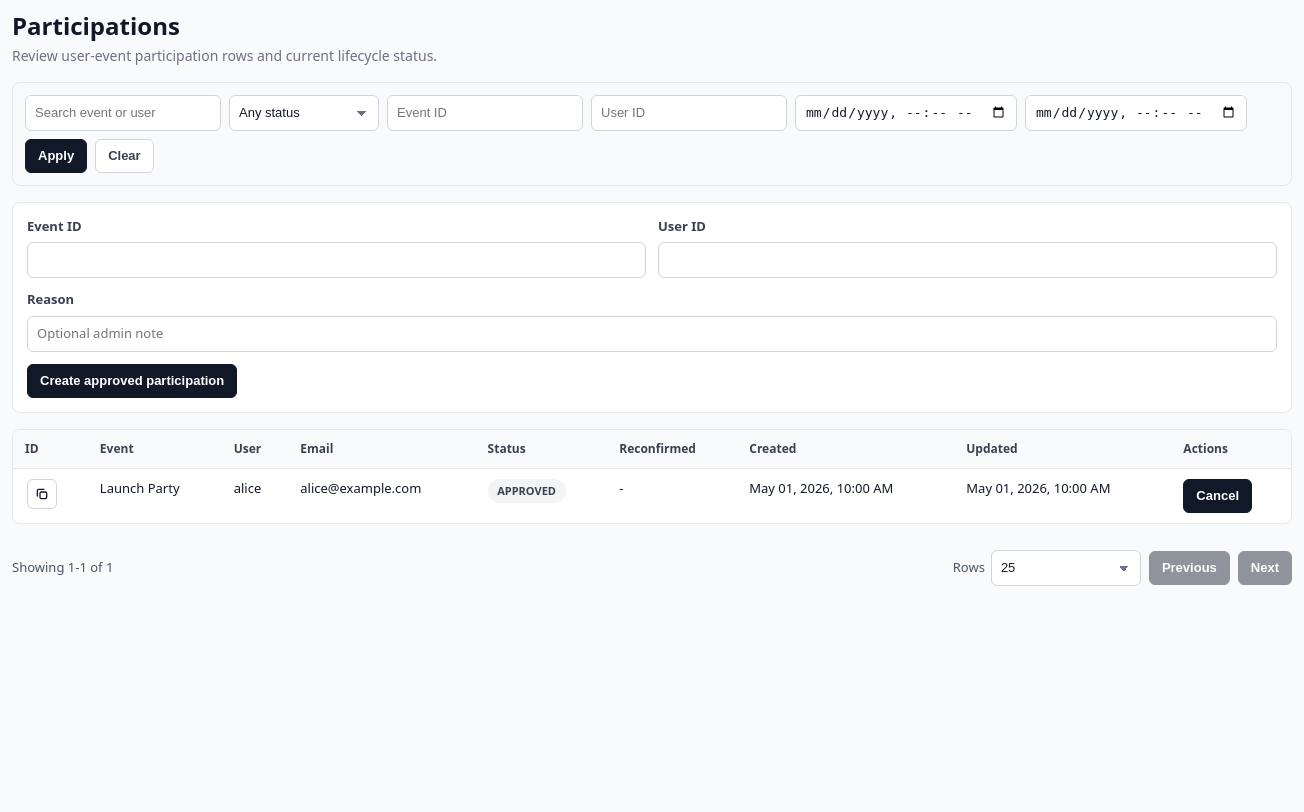
Test case: ParticipationsAdminPage › confirms cancellation, sends the cancel action, and refreshes the table
Expected: the text "Launch Party" is shown, [88,468,222,523]
Click the button "Cancel" at {"x": 1218, "y": 496}, box [1183,479,1252,513]
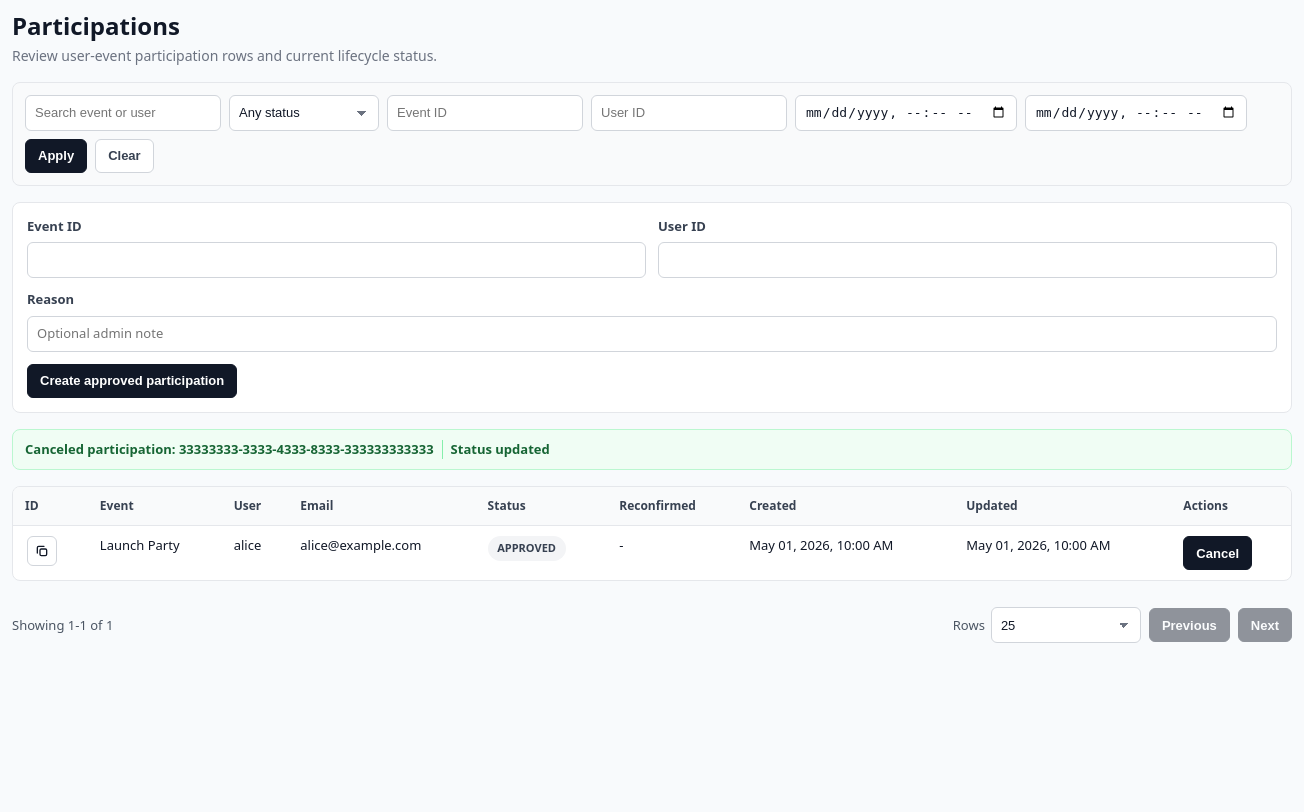
Result: the text "Canceled participation: 33333333-3333-4333-8333-333333333333" is shown at [25,440,443,459]
